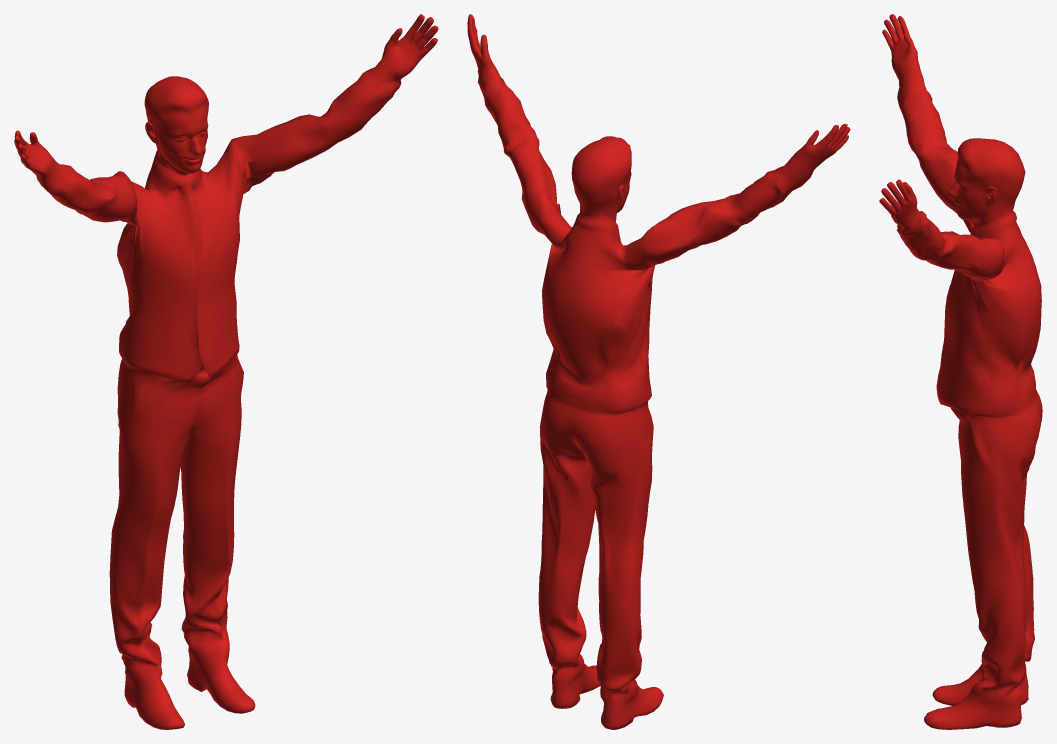
The model's file is persona.obj.
3 views of the same model, side by side, from view 1: azimuth 30°, elevation 25°; view 2: azimuth 150°, elevation 25°; view 3: azimuth 270°, elevation 25° (orthographic). The views are drawn at different scales.
Parts seen in each view (by area): view 1: rp_eric_rigged_001_geo_Malla; view 2: rp_eric_rigged_001_geo_Malla; view 3: rp_eric_rigged_001_geo_Malla.
Boxes of the visible parts, x1,y1,x2,y2 form: rp_eric_rigged_001_geo_Malla: (14,14,438,729); rp_eric_rigged_001_geo_Malla: (467,14,850,729); rp_eric_rigged_001_geo_Malla: (879,14,1042,729).
Bounding box in the file's own units: 1.32 × 2.04 × 0.4853.
